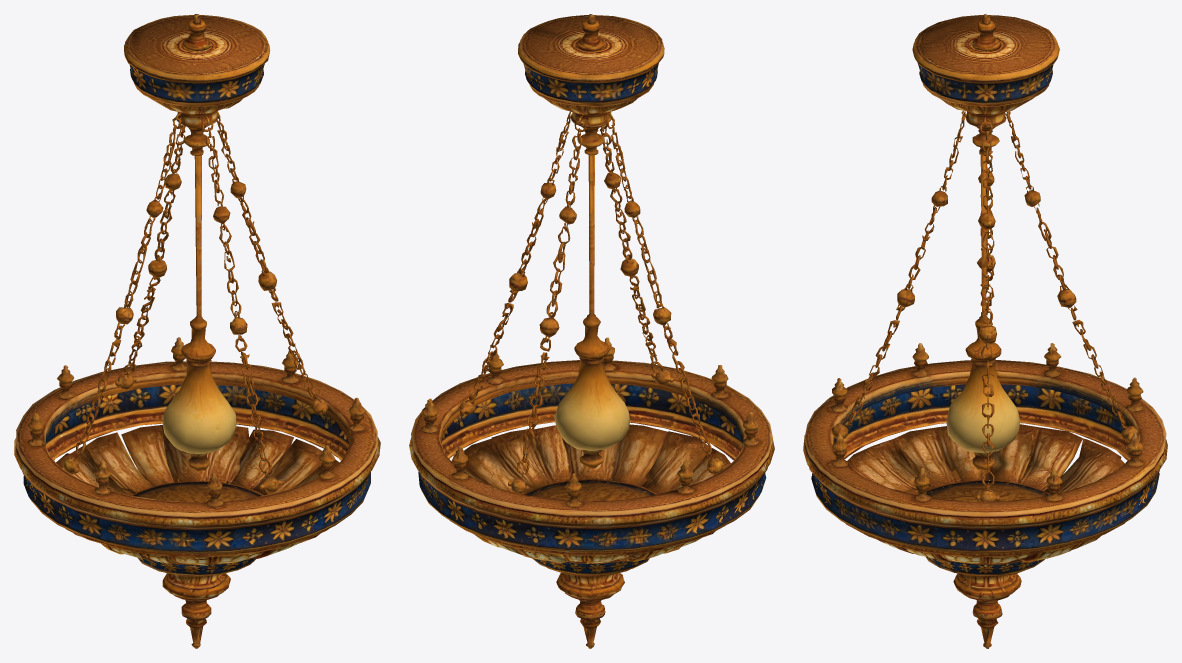
Rendered from ثريا-المجلس.glb.
The picture shows the model from 3 angles, left to right: view 1: azimuth 30°, elevation 25°; view 2: azimuth 150°, elevation 25°; view 3: azimuth 270°, elevation 25°; orthographic projection.
Parts seen in each view (by area): view 1: tripo_node_a335a137-60b3-48ab-8aac-8f6d54fdfa50; view 2: tripo_node_a335a137-60b3-48ab-8aac-8f6d54fdfa50; view 3: tripo_node_a335a137-60b3-48ab-8aac-8f6d54fdfa50.
Boxes of the visible parts, x1,y1,x2,y2 form: tripo_node_a335a137-60b3-48ab-8aac-8f6d54fdfa50: (14,14,380,648); tripo_node_a335a137-60b3-48ab-8aac-8f6d54fdfa50: (409,14,774,648); tripo_node_a335a137-60b3-48ab-8aac-8f6d54fdfa50: (803,14,1167,648).
Size of the model in its own units: 0.6271 by 1.2 by 0.627.
Materials: 1 (1 with a texture image).
